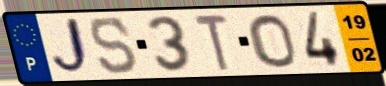3: (145, 14, 194, 74)
4: (304, 10, 343, 69)
J: (48, 16, 93, 79)
O: (245, 12, 300, 69)
S: (88, 15, 141, 76)
T: (191, 14, 232, 73)
